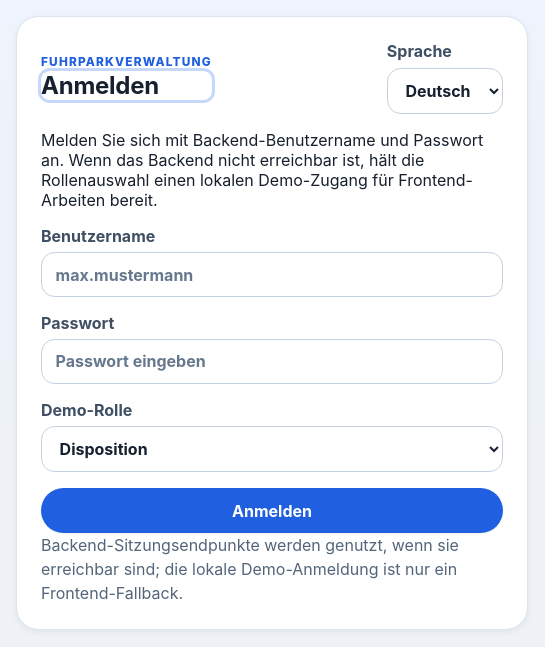
Scenario: App smoke flow › persists the selected English language
Select "Englisch" in the dropdown labelled "Sprache" at (445, 91), box [387,68,503,114]
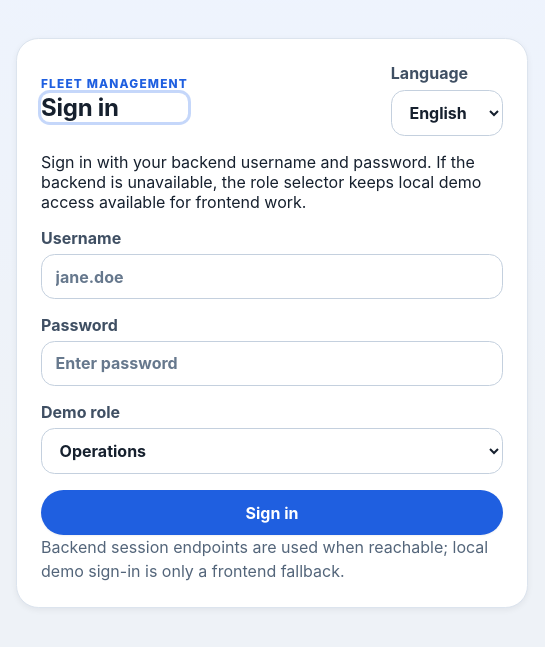
Now the heading "Sign in" is shown, box [41,93,188,122]
